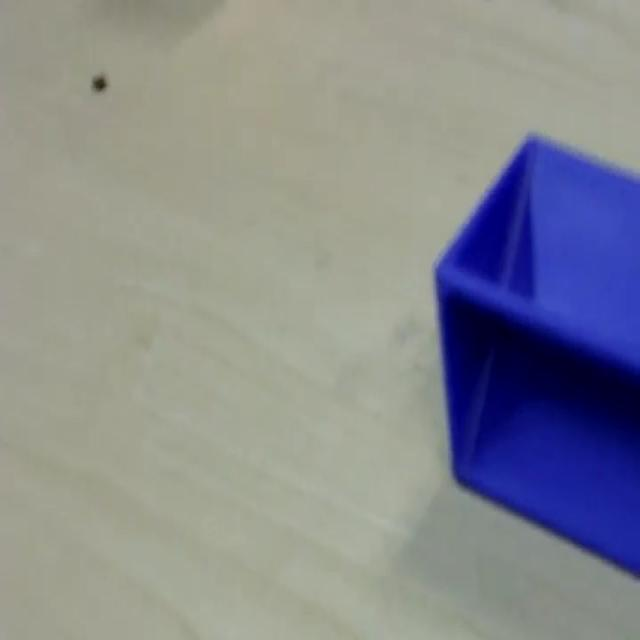blue_block: (432, 130, 639, 578)
